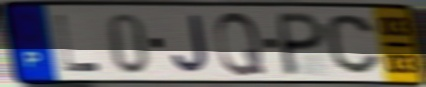0: (104, 11, 153, 76)
C: (324, 12, 385, 76)
J: (169, 12, 211, 75)
L: (53, 13, 104, 75)
P: (277, 10, 329, 79)
Q: (213, 10, 268, 78)
